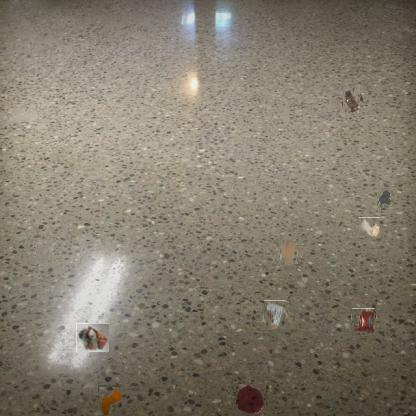dirty: (76, 323, 109, 352), (98, 386, 122, 416), (262, 302, 287, 327), (351, 309, 376, 333), (340, 89, 362, 111), (278, 240, 300, 262), (359, 217, 380, 238)
liquid: (236, 384, 266, 416), (377, 188, 391, 210)
